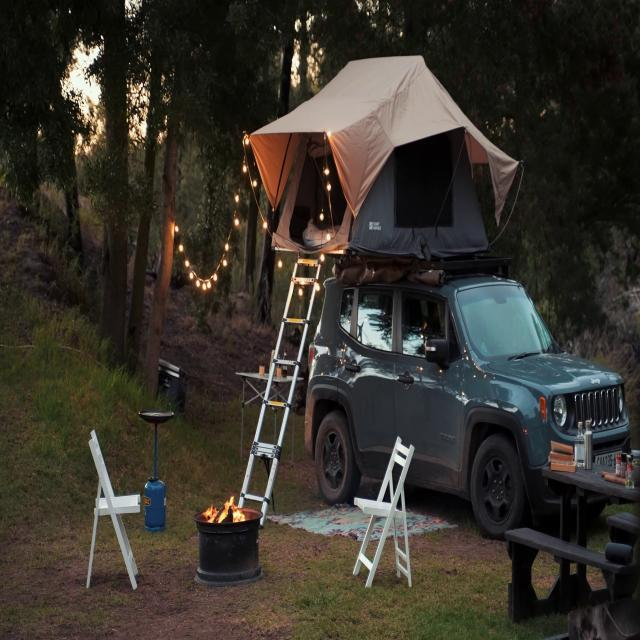Fire: (208, 488, 246, 528)
